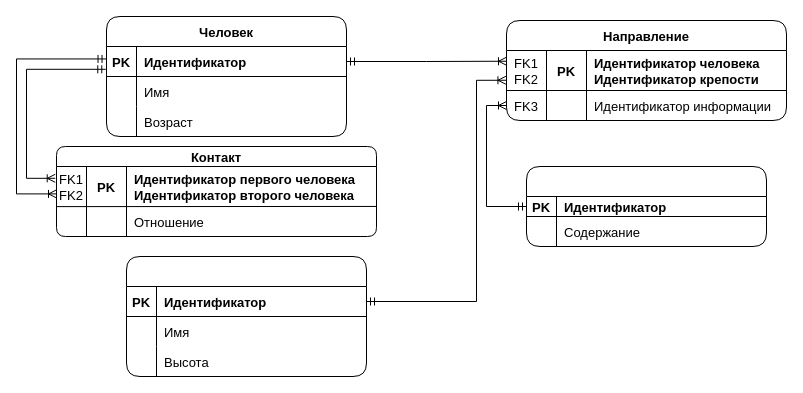
Some shapes in this 803 by 393 pixel diagram are drawn without their labels. The shapes that lost their labels are listed below. From the top down, each one's box as (x1, y1, x2, y2) in pixels, then its label:
(526, 166, 766, 246): Информация
(126, 256, 366, 376): Крепость
